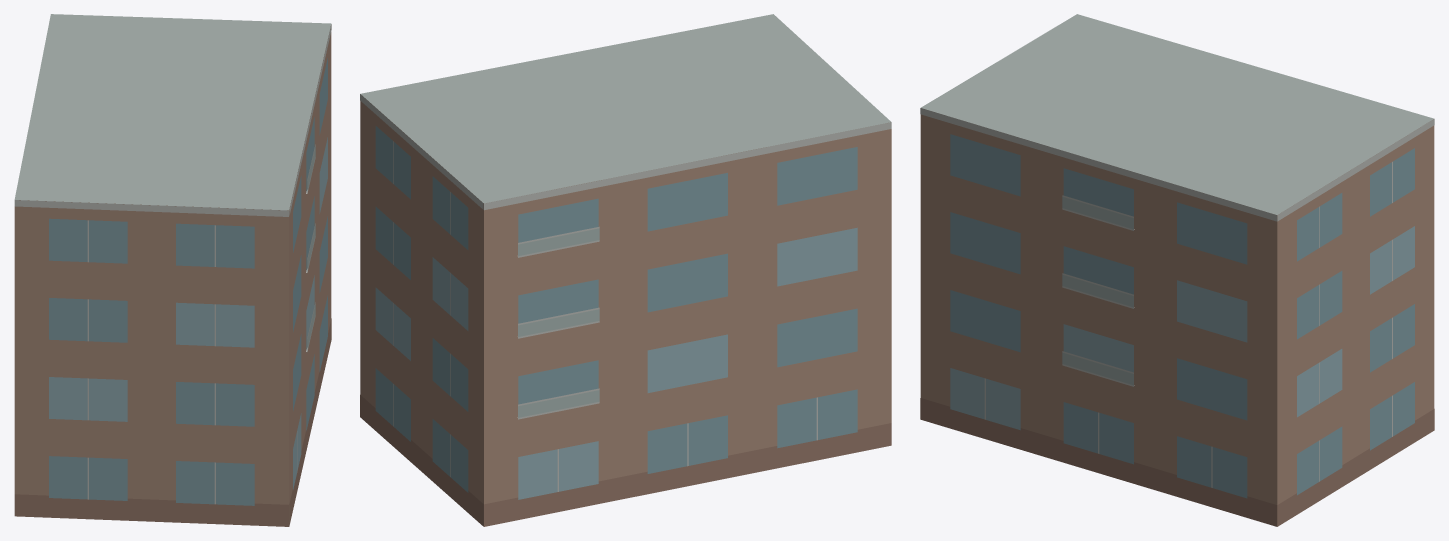
Rendered from survey-upis-32609093.glb.
The picture shows the model from 3 angles, left to right: view 1: azimuth 30°, elevation 25°; view 2: azimuth 150°, elevation 25°; view 3: azimuth 270°, elevation 25°; orthographic projection. The views are drawn at different scales.
Parts seen in each view (by area): view 1: survey-upis-32609093.tmp; view 2: survey-upis-32609093.tmp; view 3: survey-upis-32609093.tmp.
Boxes of the visible parts, box(x1,y1,x2,y2) form: survey-upis-32609093.tmp: box(14, 14, 331, 526); survey-upis-32609093.tmp: box(360, 14, 891, 526); survey-upis-32609093.tmp: box(920, 14, 1434, 526).
Bounding box in the file's own units: 16.2 × 11.7 × 17.49.
